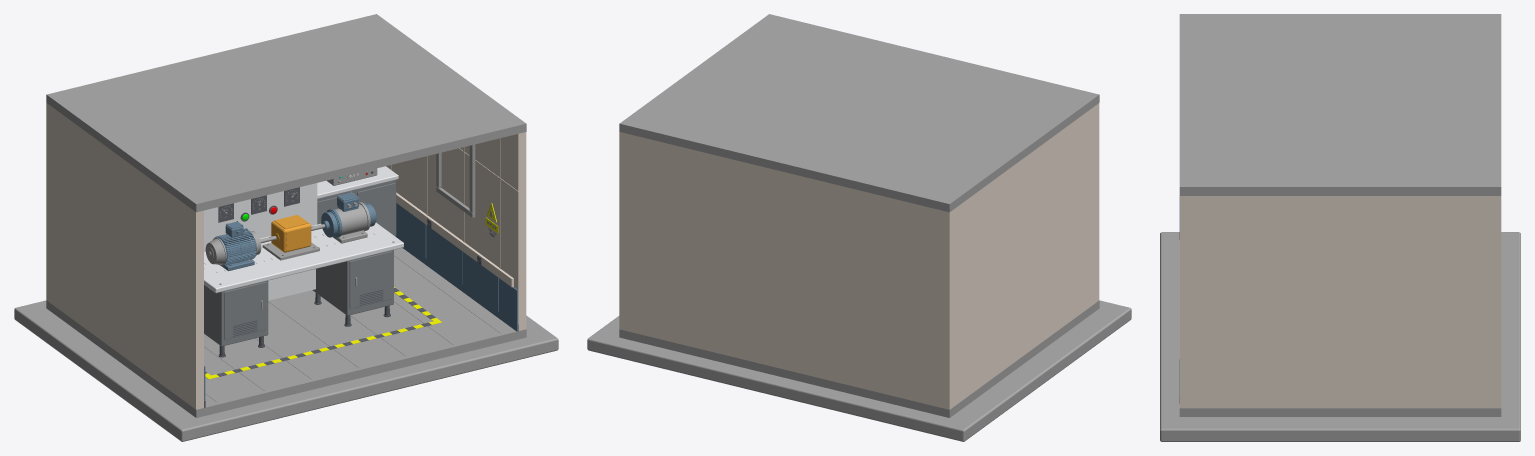
Rendered from DRDO_CFEES_CAFES_FullColor_3D.glb.
The picture shows the model from 3 angles, left to right: view 1: azimuth 30°, elevation 25°; view 2: azimuth 150°, elevation 25°; view 3: azimuth 270°, elevation 25°; orthographic projection. The views are drawn at different scales.
Bounding box in the file's own units: 2 × 1.15 × 1.54.
